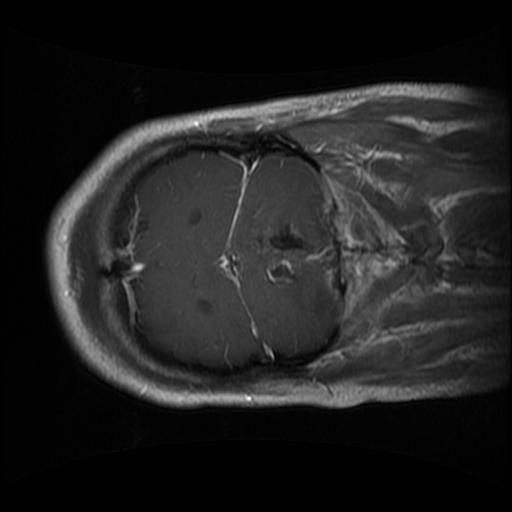glioma: (257, 217, 310, 287)
